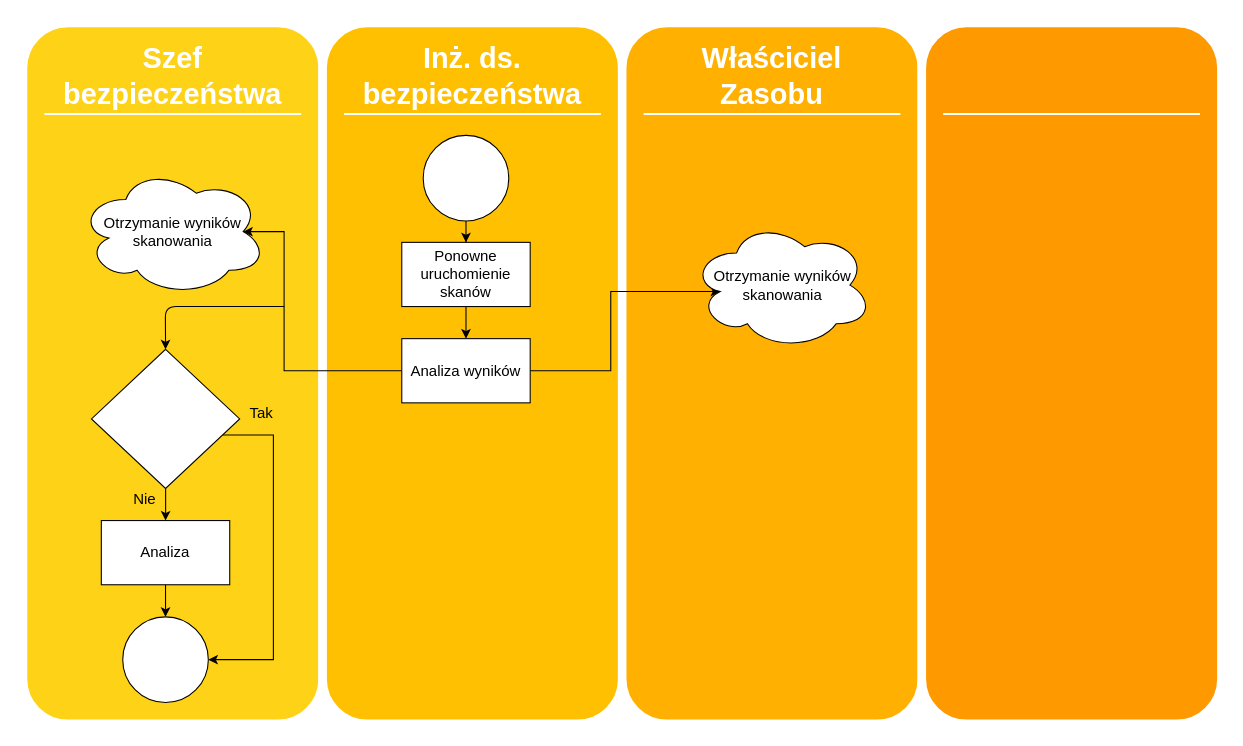
Image size: 1243x746. Some labels were removed from this diagram. The shapes that lost their labels are listed below. From the top down, each one's box as (x1, y1, x2, y2) in pixels, then its label:
(917, 18, 1225, 728): Administrator zasobu
(90, 348, 240, 488): Cykl zakończony sukcesem?
